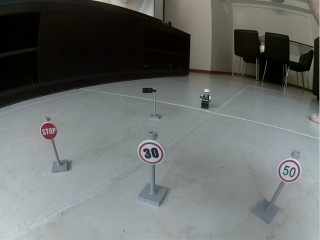Green Traffic Light: (141, 87, 161, 120)
Person: (199, 88, 211, 111)
Speed Limit 30: (138, 141, 165, 164)
Speed Limit 50: (278, 159, 302, 183)
Stop Sign: (40, 123, 58, 141)
